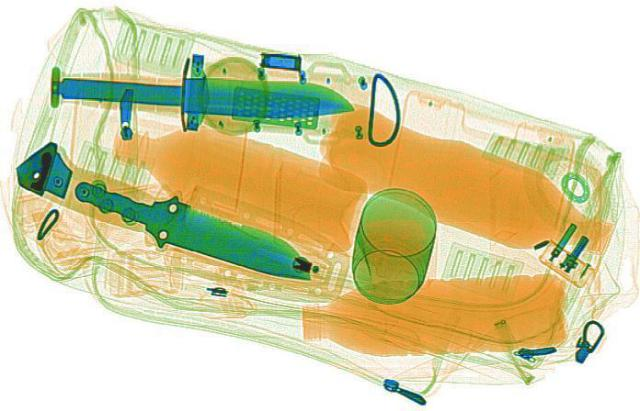Knife: (51, 167, 336, 294), (39, 41, 362, 142)
